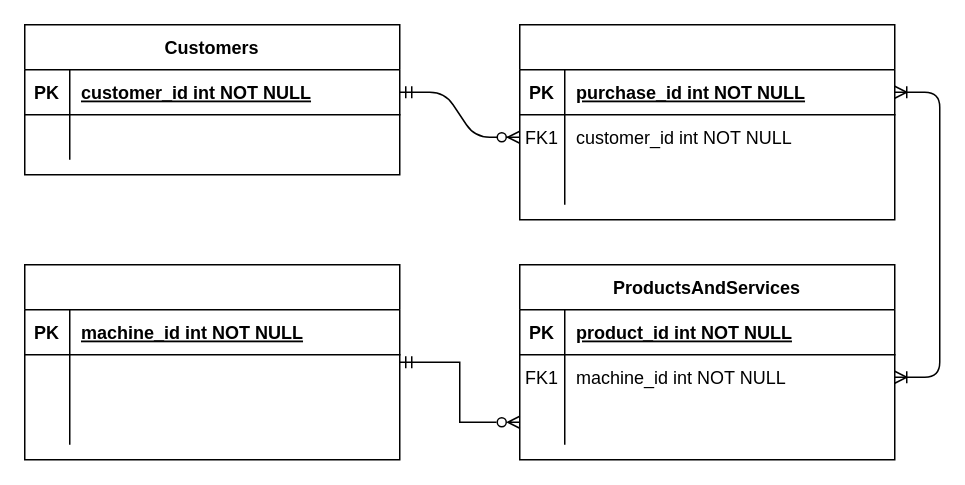
The diagram is 965 pixels wide and 485 high, and some of its shapes have lost their labels. Each missing label, with the box of its shape:
Purchases: (518, 23, 895, 220)
RetailMachines: (23, 263, 400, 460)
